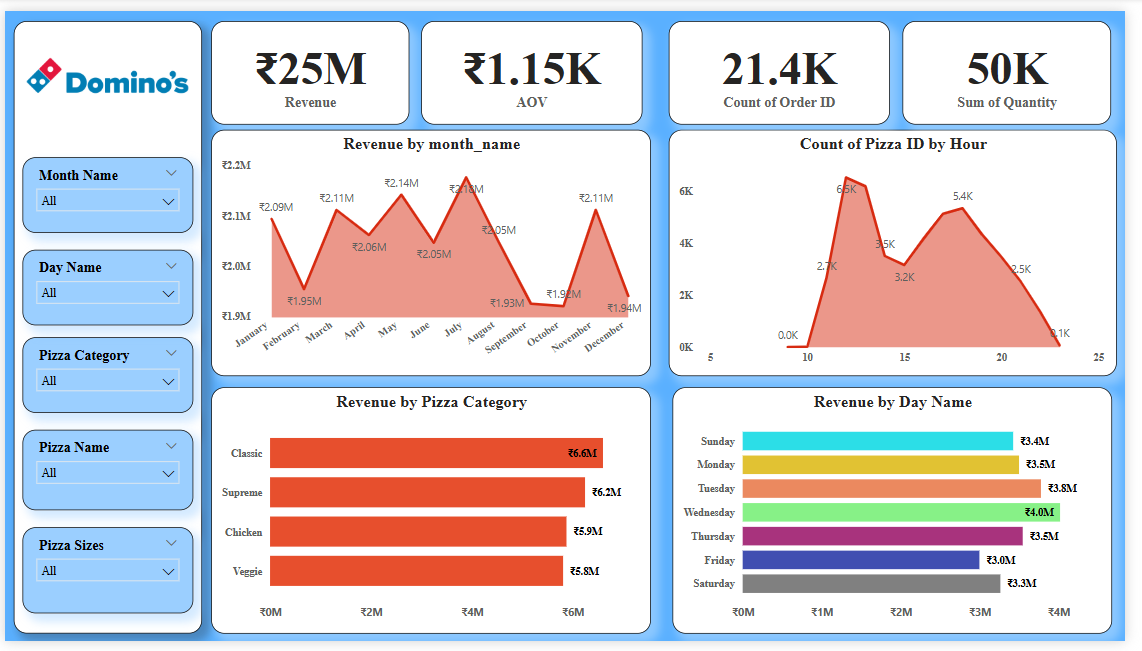

What the dashboard file says about the page in this screenshot:
{"tool":"powerbi","page":{"name":"Page 2","canvas":[1280,720],"ordinal":0},"visuals":[{"type":"shape","box":[9.6,11,215.4,699.8],"z":0},{"type":"clusteredBarChart","title":"Revenue by Pizza Category","fields":{"Category":["Dataset.pizza_category"],"Y":["Dataset.Revenue"]},"box":[236,429.5,502.2,281.3],"z":1000},{"type":"clusteredBarChart","title":"Revenue by Day Name","fields":{"Category":["Dataset.day_name"],"Y":["Dataset.Revenue"]},"box":[763,429.5,502.2,281.3],"z":2000},{"type":"card","fields":{"Values":["Dataset.Revenue"]},"box":[236,11,226.4,118],"z":3000},{"type":"card","fields":{"Values":["Dataset.AOV"]},"box":[476.2,11,252.5,118],"z":4000},{"type":"lineChart","title":"Count of Pizza ID by Hour","fields":{"Category":["Dataset.hour"],"Y":["CountNonNull(Dataset.pizza_id)"]},"box":[758.8,135.8,511.8,281.3],"z":5000},{"type":"lineChart","fields":{"Category":["Dataset.month_name"],"Y":["Dataset.Revenue"]},"box":[236,135.8,502.2,281.3],"z":6000},{"type":"slicer","fields":{"Values":["Dataset.month_name"]},"box":[20.6,167.4,194.9,86.4],"z":7000},{"type":"slicer","fields":{"Values":["Dataset.day_name"]},"box":[20.6,273.1,194.9,86.4],"z":8000},{"type":"slicer","fields":{"Values":["Dataset.pizza_category"]},"box":[20.6,373.2,194.9,86.4],"z":9000},{"type":"slicer","fields":{"Values":["Dataset.pizza_name"]},"box":[20.6,478.9,194.9,91.9],"z":10000},{"type":"slicer","fields":{"Values":["Dataset.pizza_sizes"]},"box":[20.6,590.1,194.9,98.8],"z":11000},{"type":"card","fields":{"Values":["Count(Dataset.order_id)"]},"box":[758.8,11,252.5,118],"z":12000},{"type":"card","fields":{"Values":["Sum(Dataset.quantity)"]},"box":[1026.4,11,238.8,118],"z":13000},{"type":"image","box":[20.6,11,194.9,124.9],"z":14000}]}

Visuals, with their boxes in screenshot pixels (x1, y1, x2, y2), scaled from the page's 1280x720 canvas onto the 1142x651 screenshot:
shape: select_region(9, 10, 201, 643)
"Revenue by Pizza Category" clusteredBarChart: select_region(211, 388, 659, 643)
"Revenue by Day Name" clusteredBarChart: select_region(681, 388, 1129, 643)
card - Dataset.Revenue: select_region(211, 10, 413, 117)
card - Dataset.AOV: select_region(425, 10, 650, 117)
"Count of Pizza ID by Hour" lineChart: select_region(677, 123, 1134, 377)
lineChart - Dataset.month_name x Dataset.Revenue: select_region(211, 123, 659, 377)
slicer - Dataset.month_name: select_region(18, 151, 192, 229)
slicer - Dataset.day_name: select_region(18, 247, 192, 325)
slicer - Dataset.pizza_category: select_region(18, 337, 192, 416)
slicer - Dataset.pizza_name: select_region(18, 433, 192, 516)
slicer - Dataset.pizza_sizes: select_region(18, 534, 192, 623)
card - Count(Dataset.order_id): select_region(677, 10, 902, 117)
card - Sum(Dataset.quantity): select_region(916, 10, 1129, 117)
image: select_region(18, 10, 192, 123)
